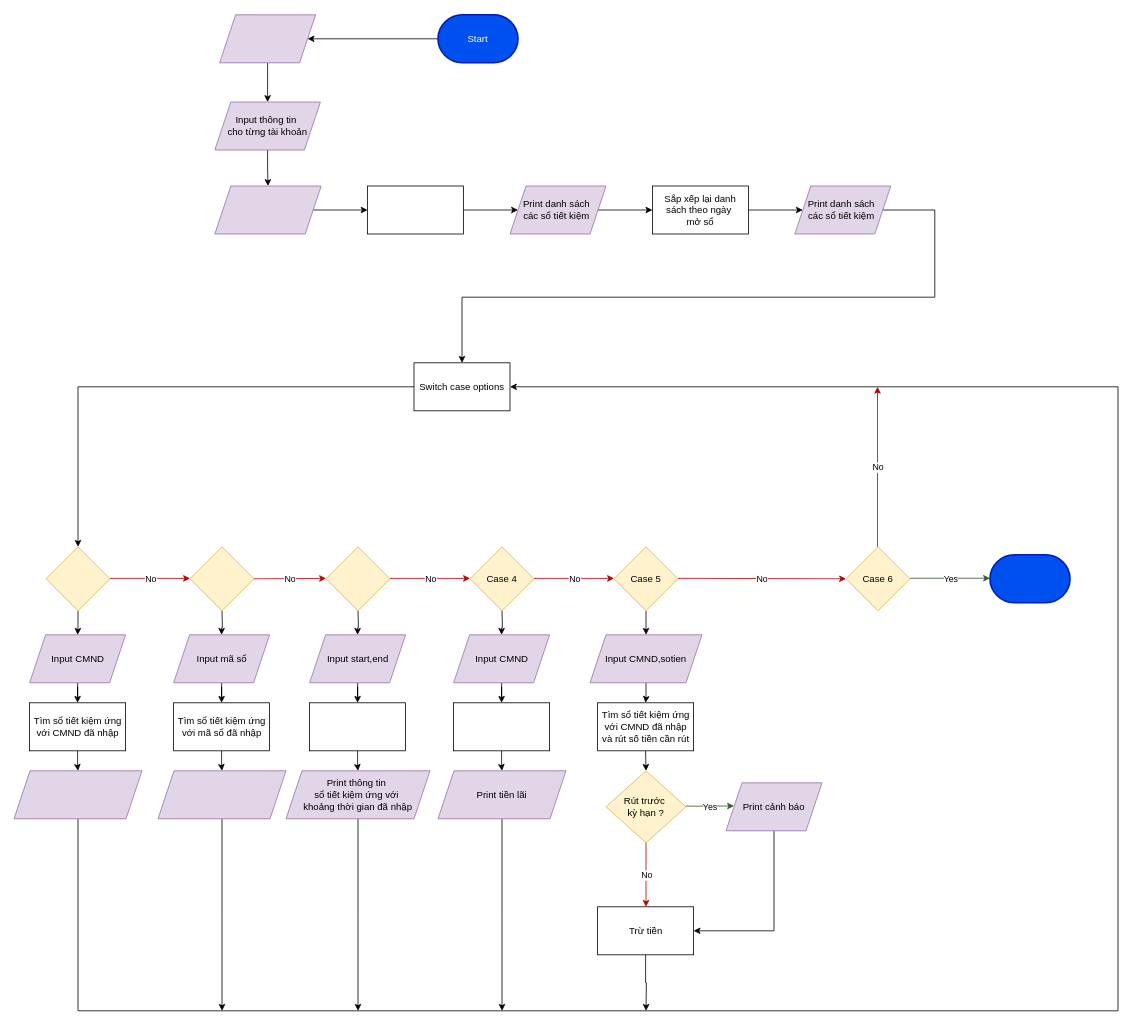
Some shapes in this 1138 by 1031 pixel diagram are drawn without their labels. Here are the shapes that lost their labels. From the top down, the centre of each, then its label:
At pixel 267 38: "Input số lượng tài khoản".
At pixel 267 209: "Print danh sách các sổ tiết kiệm đã nhập".
At pixel 415 209: "Sắp xếp lại danh sách theo số tiền trong sổ".
At pixel 77 578: "Case 1".
At pixel 221 578: "Case 2".
At pixel 357 578: "Case 3".
At pixel 1029 578: "End".
At pixel 357 726: "Tìm sổ tiết kiệm được mở trong khoảng thời gian từ start đến end".
At pixel 501 726: "Tính tiền lãi của sổ tiết kiệm ứng với CMND vừa nhập".
At pixel 77 794: "Print thông tin sổ tiết kiệm ứng với CMND đã nhập".
At pixel 221 794: "Print thông tin sổ tiết kiệm ứng với mã sổ đã nhập".
